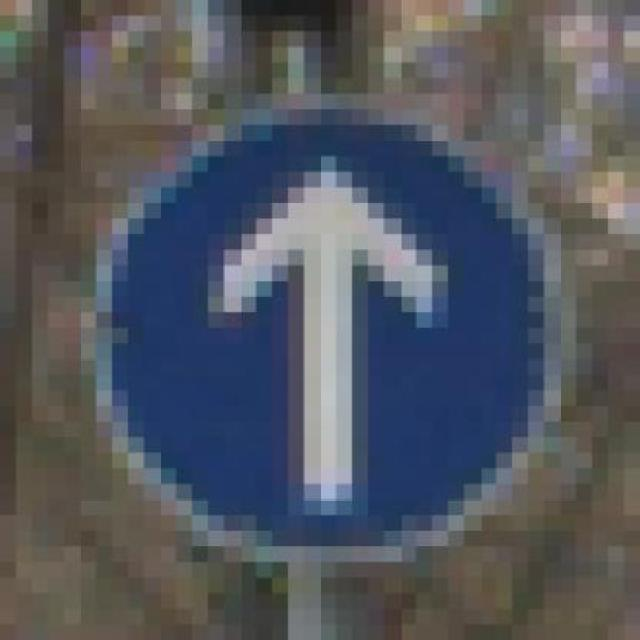Straight Ahead Only: (80, 108, 592, 578)
